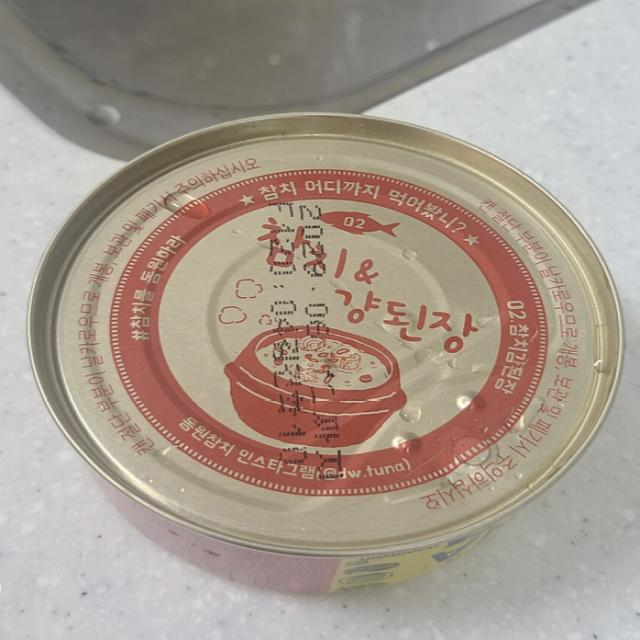recyclable: (29, 84, 609, 607)
